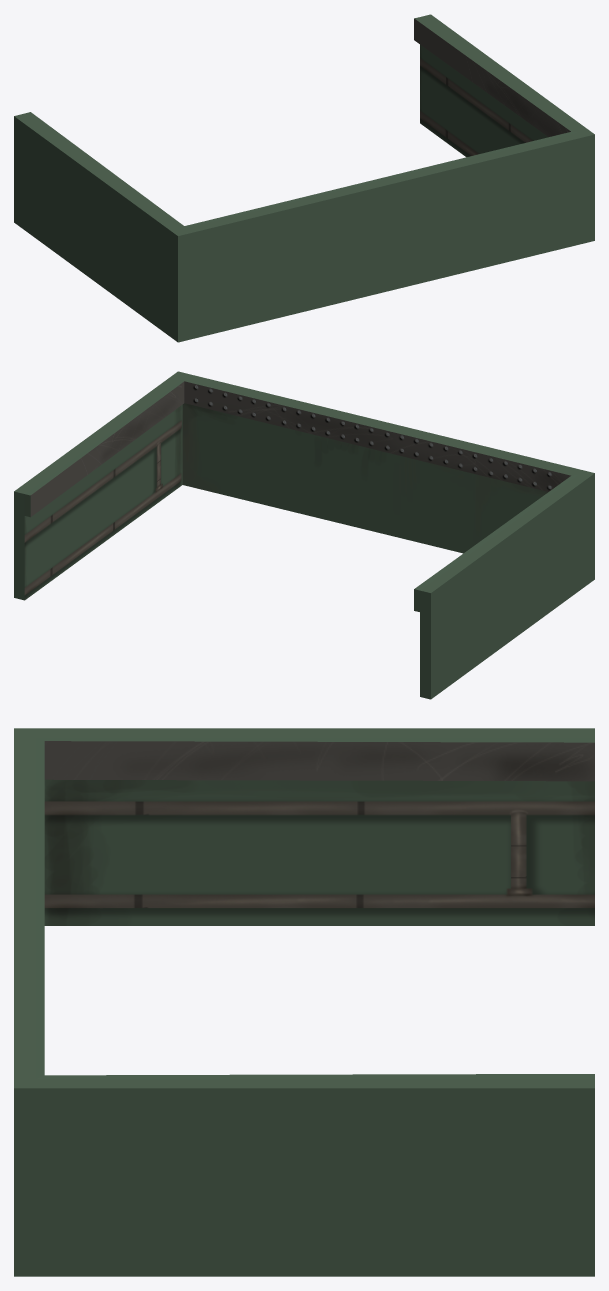
File: Walls V2.fbx
The picture shows the model from 3 angles, top to bottom: view 1: azimuth 30°, elevation 25°; view 2: azimuth 150°, elevation 25°; view 3: azimuth 270°, elevation 25°; orthographic projection. The views are drawn at different scales.
Parts seen in each view (by area): view 1: ProtoRoom2_polySurface1; view 2: ProtoRoom2_polySurface1; view 3: ProtoRoom2_polySurface1.
Part boxes in pixels (<box>): ProtoRoom2_polySurface1: <box>14,14,594,342</box>; ProtoRoom2_polySurface1: <box>14,371,594,699</box>; ProtoRoom2_polySurface1: <box>14,728,594,1276</box>.
Size of the model in its own units: 100 by 24.52 by 68.52.
1 material, 1 textured.
